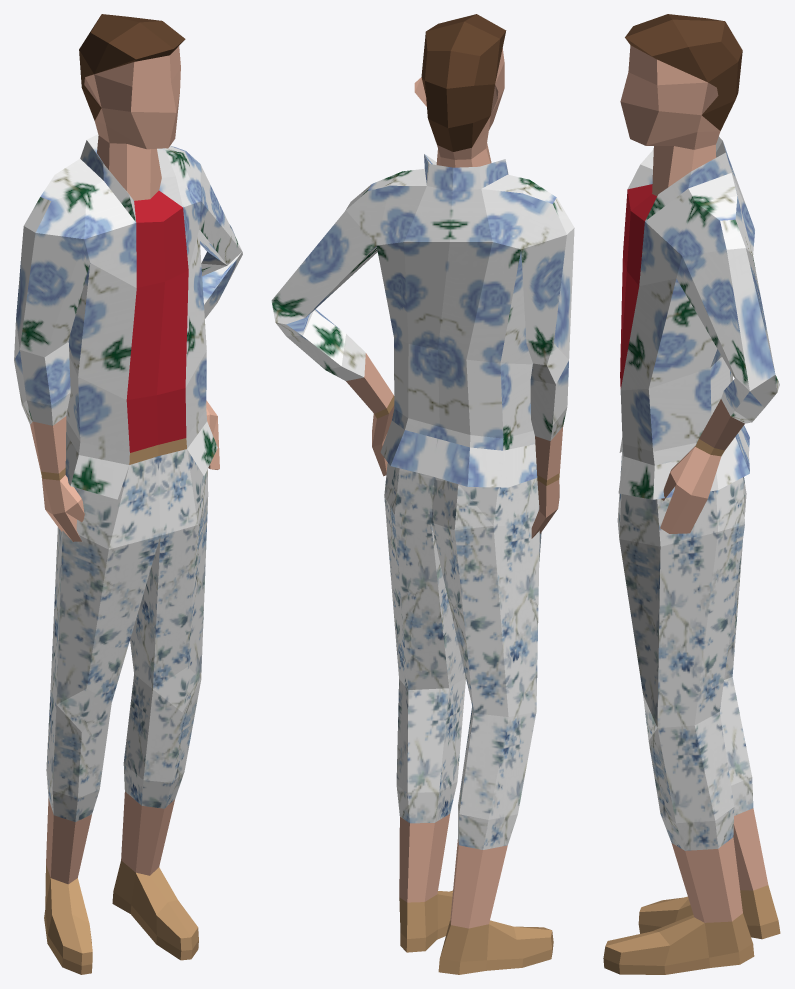
File: SpringManC.008.glb
3 renders of one model, left to right at view 1: azimuth 30°, elevation 25°; view 2: azimuth 150°, elevation 25°; view 3: azimuth 270°, elevation 25°, orthographic. The views are drawn at different scales.
Parts seen in each view (by area): view 1: SpringManC.009; view 2: SpringManC.009; view 3: SpringManC.009.
Part boxes in pixels (<box>): SpringManC.009: <box>14,14,242,974</box>; SpringManC.009: <box>271,14,574,974</box>; SpringManC.009: <box>603,14,780,974</box>.
Size of the model in its own units: 0.5108 by 1.77 by 0.3001.
Materials: 1 (1 with a texture image).
